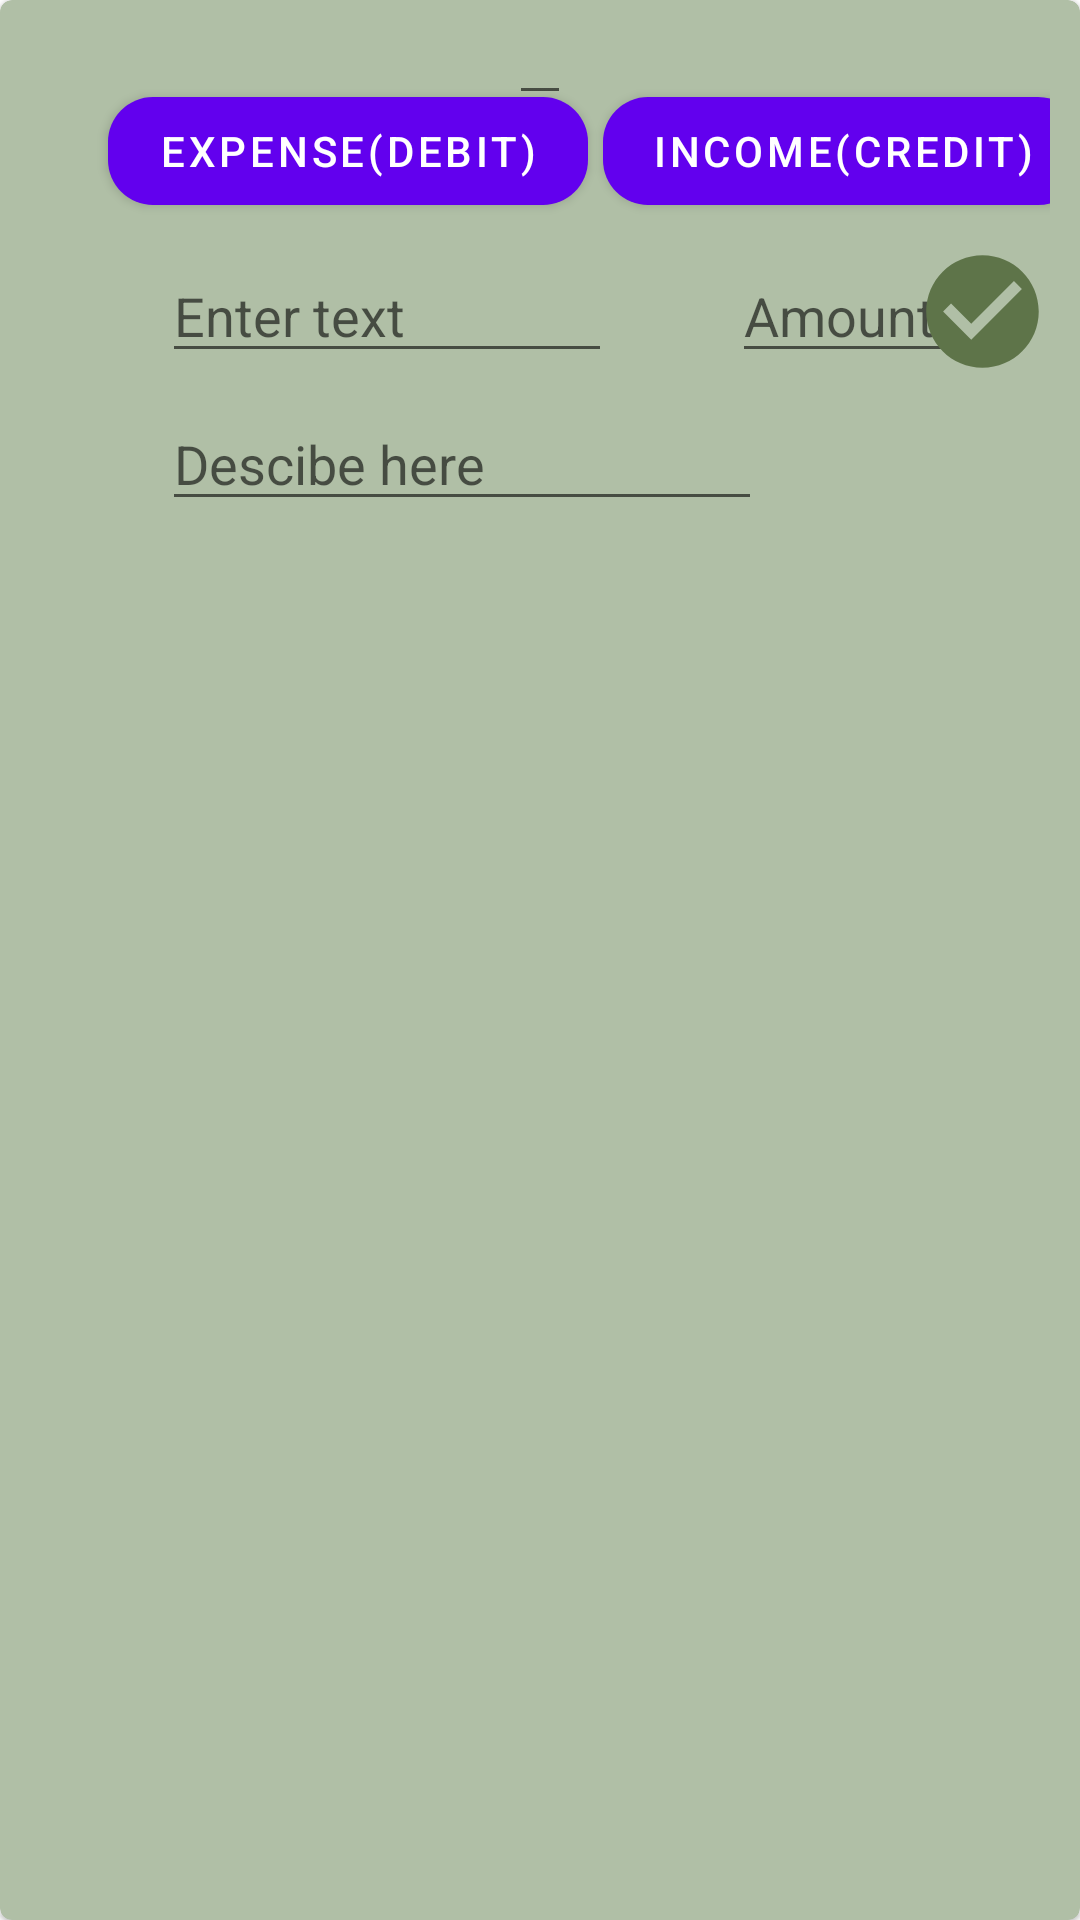

Where icons sit on this 1080px x 1920px app screen, as (x1, y1, x2, y2):
check circle: (915, 255, 1039, 368)
